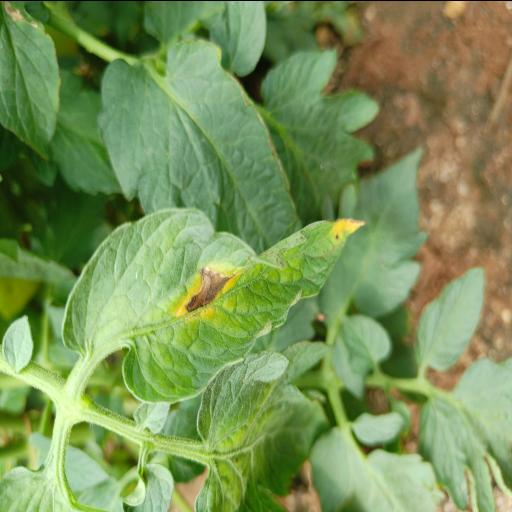disease_tomato: (62, 202, 370, 408)
